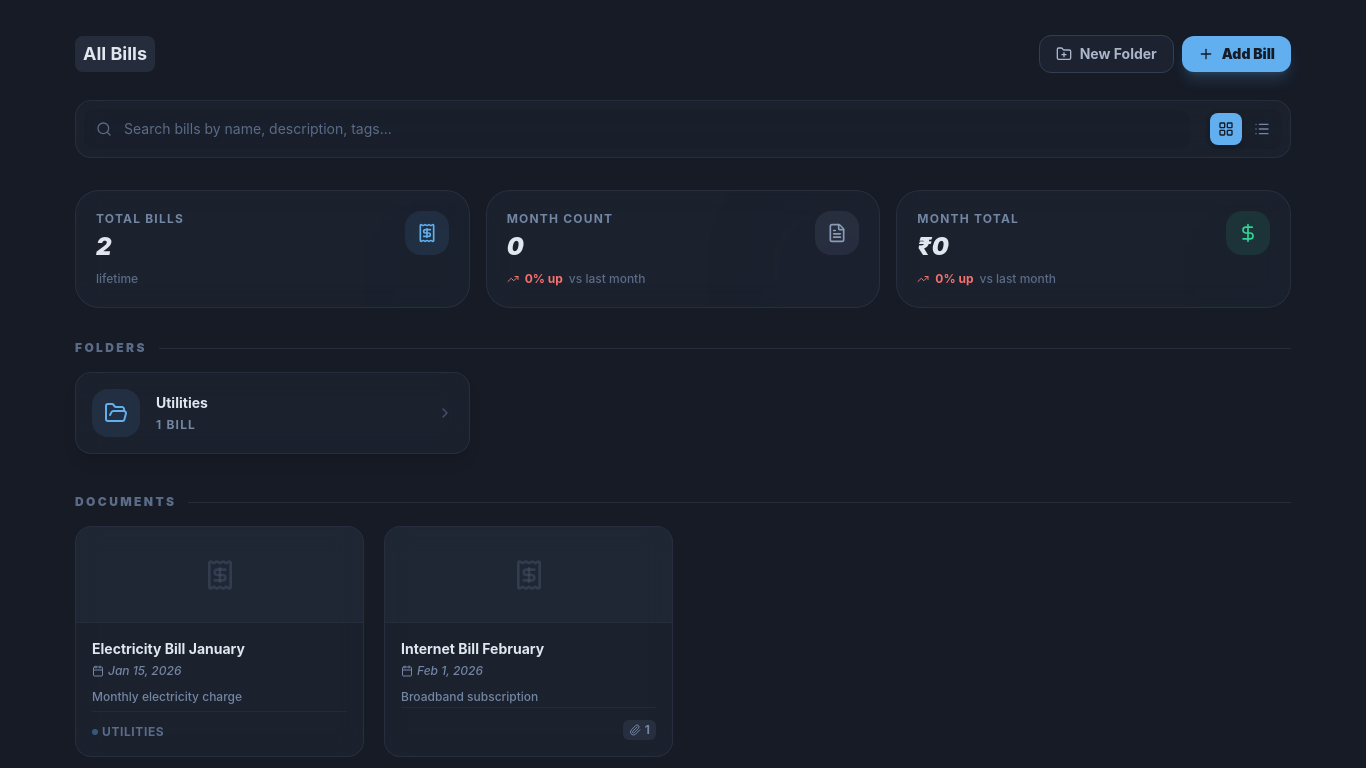
BillsAdminView › closes add bill modal when Cancel is clicked
The width and height of the screenshot is (1366, 768).
Expected: the heading "Electricity Bill January" is shown, x1=92 y1=640 x2=245 y2=657
Click the button "Add Bill". click: point(1236, 54)
box: x1=1182 y1=36 x2=1291 y2=72
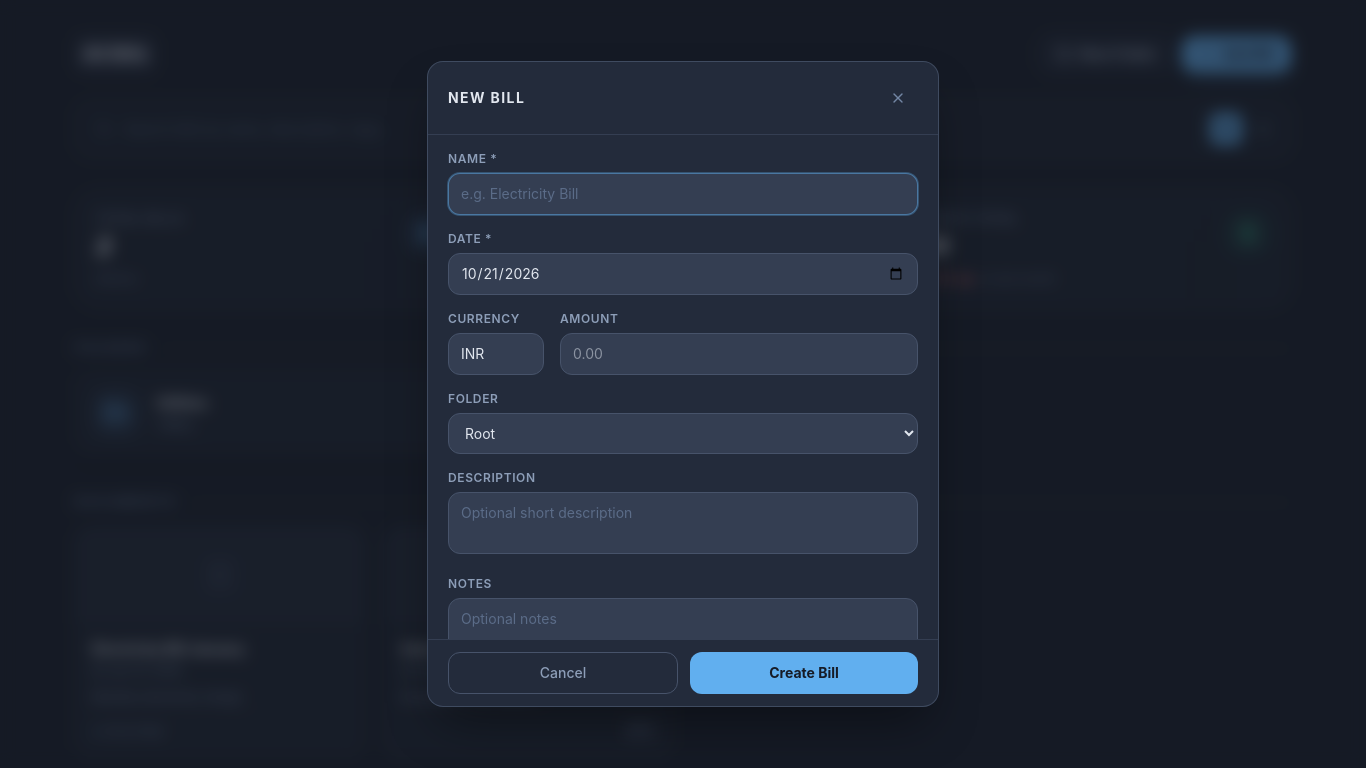
Result: the heading "New Bill" is shown at x1=448 y1=88 x2=525 y2=108
Click the button "Cancel". click: point(563, 672)
box: x1=448 y1=652 x2=678 y2=694
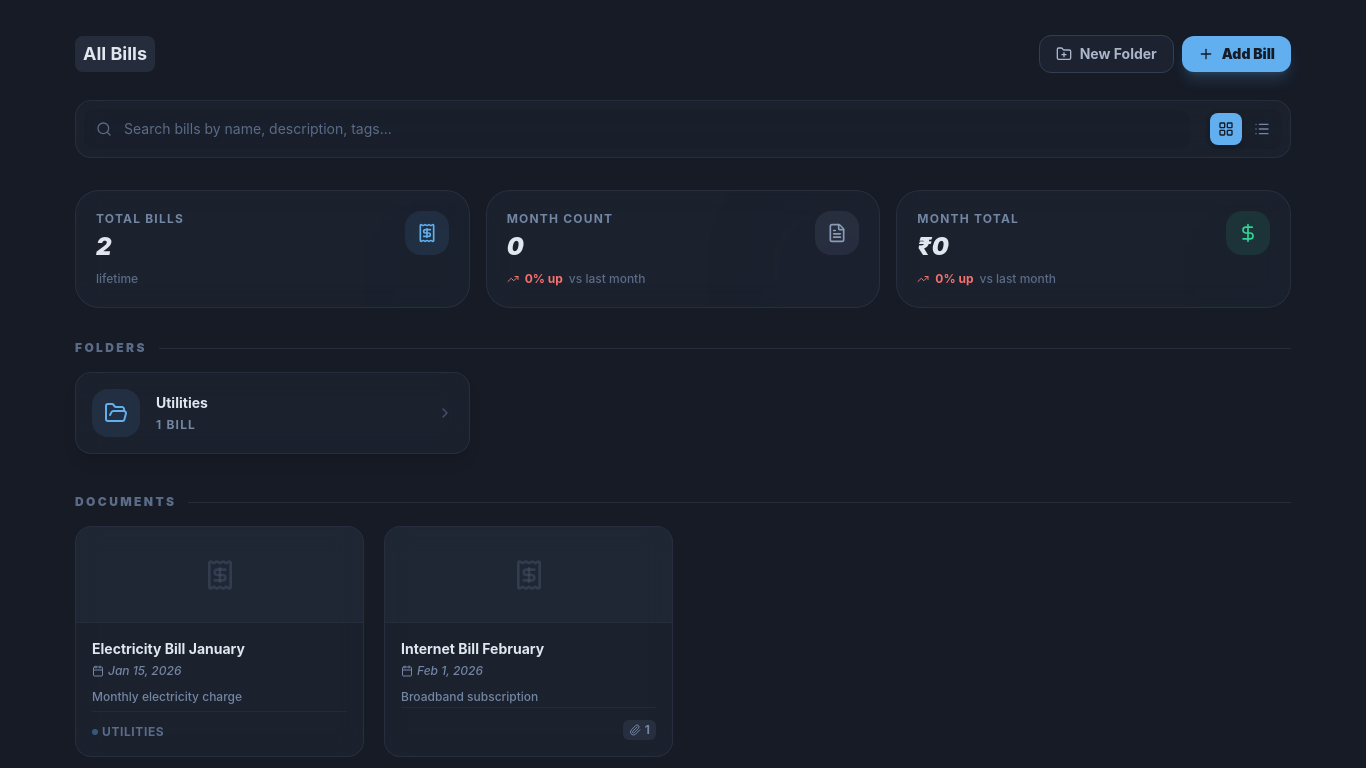
Result: the heading "New Bill" is gone
